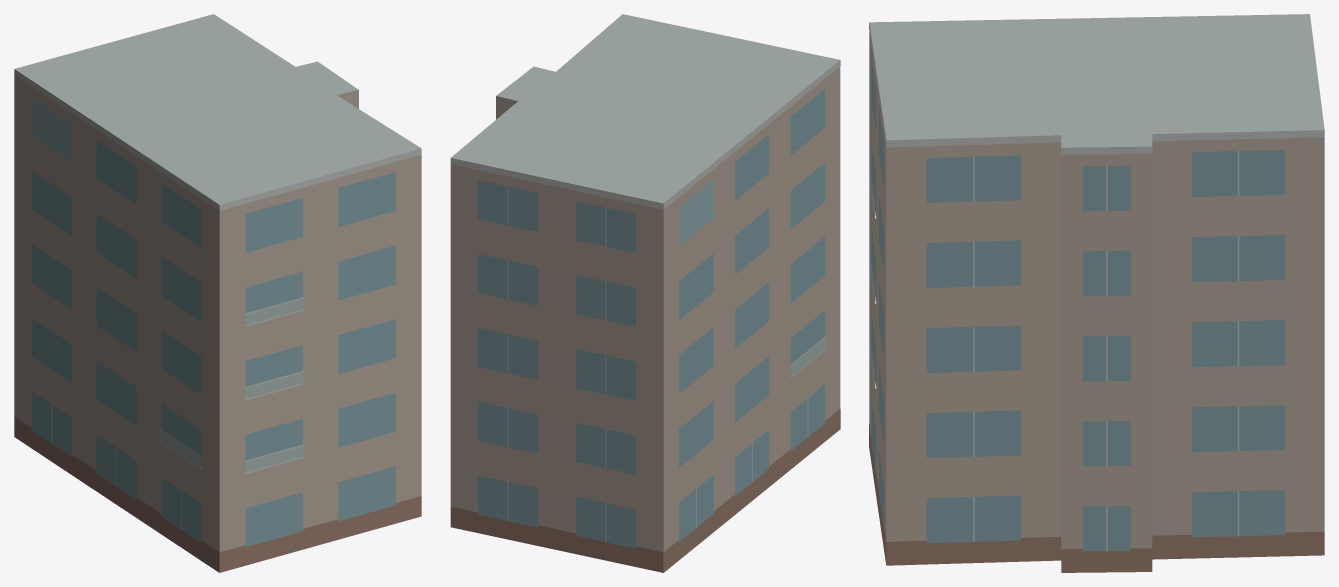
Rendered from survey-upis-32556061.glb.
The picture shows the model from 3 angles, left to right: view 1: azimuth 30°, elevation 25°; view 2: azimuth 150°, elevation 25°; view 3: azimuth 270°, elevation 25°; orthographic projection. The views are drawn at different scales.
Visible parts, largest first — view 1: survey-upis-32556061.tmp; view 2: survey-upis-32556061.tmp; view 3: survey-upis-32556061.tmp.
Boxes of the visible parts, x1,y1,x2,y2 form: survey-upis-32556061.tmp: (14, 14, 421, 572); survey-upis-32556061.tmp: (450, 14, 840, 572); survey-upis-32556061.tmp: (869, 14, 1324, 572).
Size of the model in its own units: 9.75 by 14.45 by 14.04.
